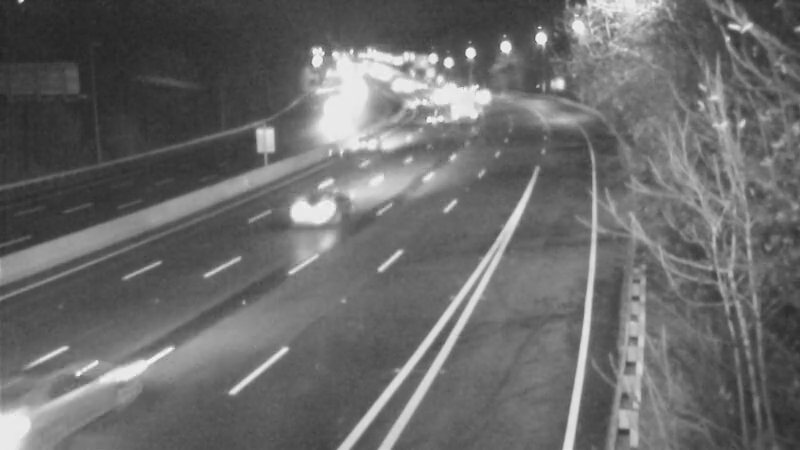vehicle: (1, 350, 101, 450), (278, 168, 358, 248), (458, 71, 508, 121), (434, 73, 484, 123), (414, 89, 464, 139), (338, 120, 388, 170)
